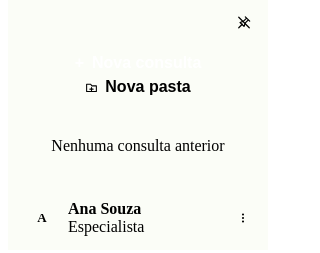
Menu do usuário (Editar perfil / Sair) › dentro da Waid não há Sair, como na casca mobile (item 72)
Click the text "Ana Souza" at x=105, y=208, box [68,200,141,217]
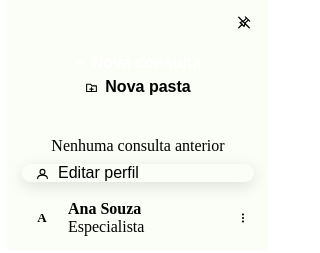
Expected: the number of buttons "Editar perfil" is 1, [22,164,254,182]
